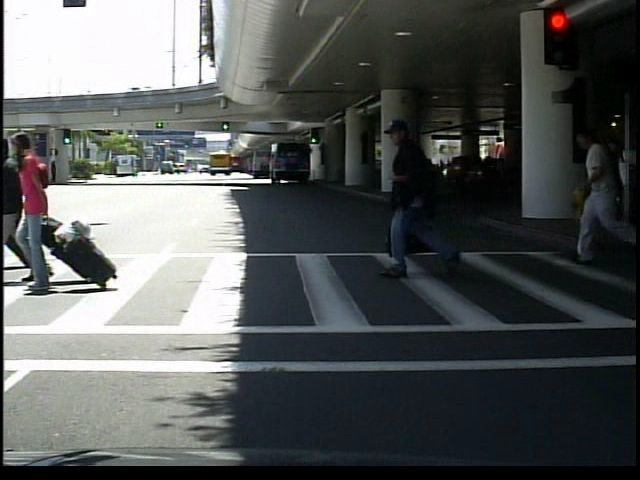person: (369, 113, 464, 280), (574, 114, 631, 268)
